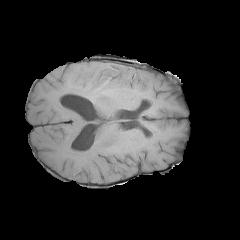glioma: (68, 62, 133, 98)
